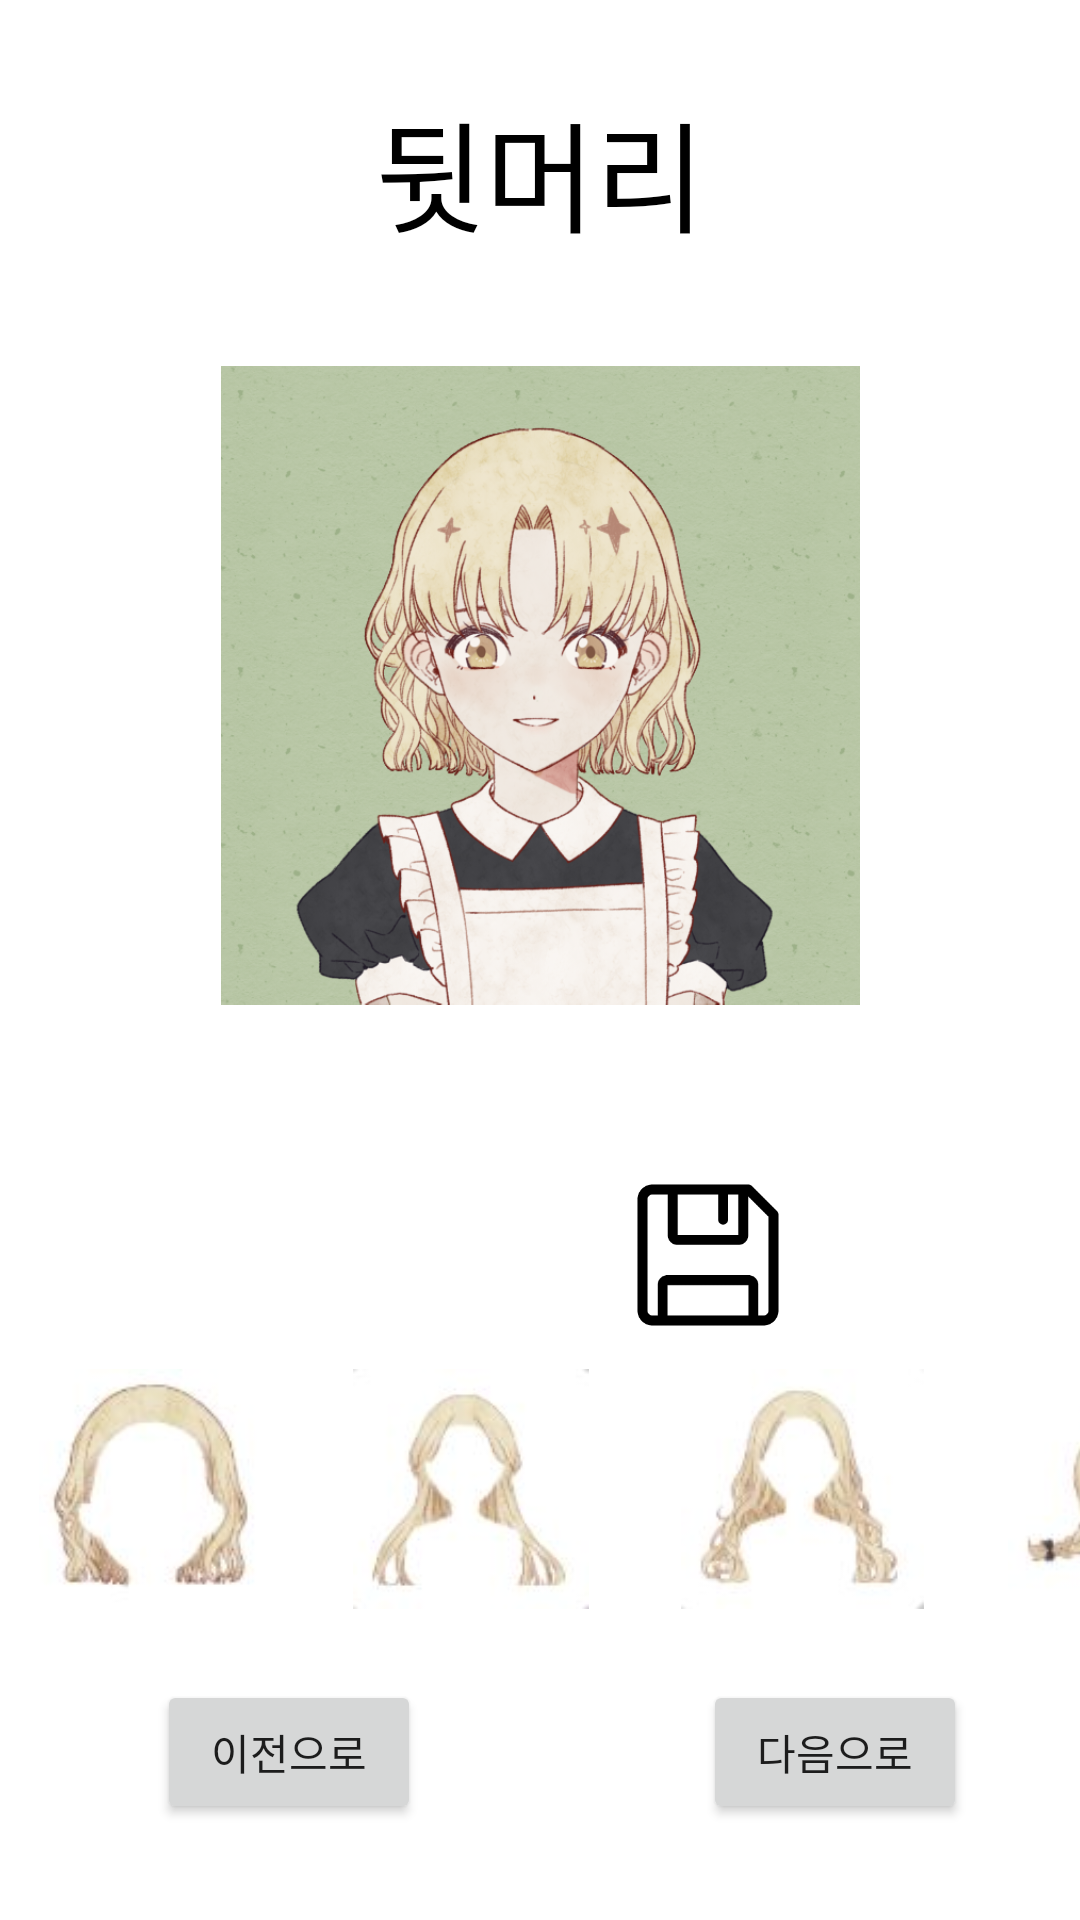

Icon click points for this 1080*1920 phone screenshot, format [x,y]:
save: [708,1255]
